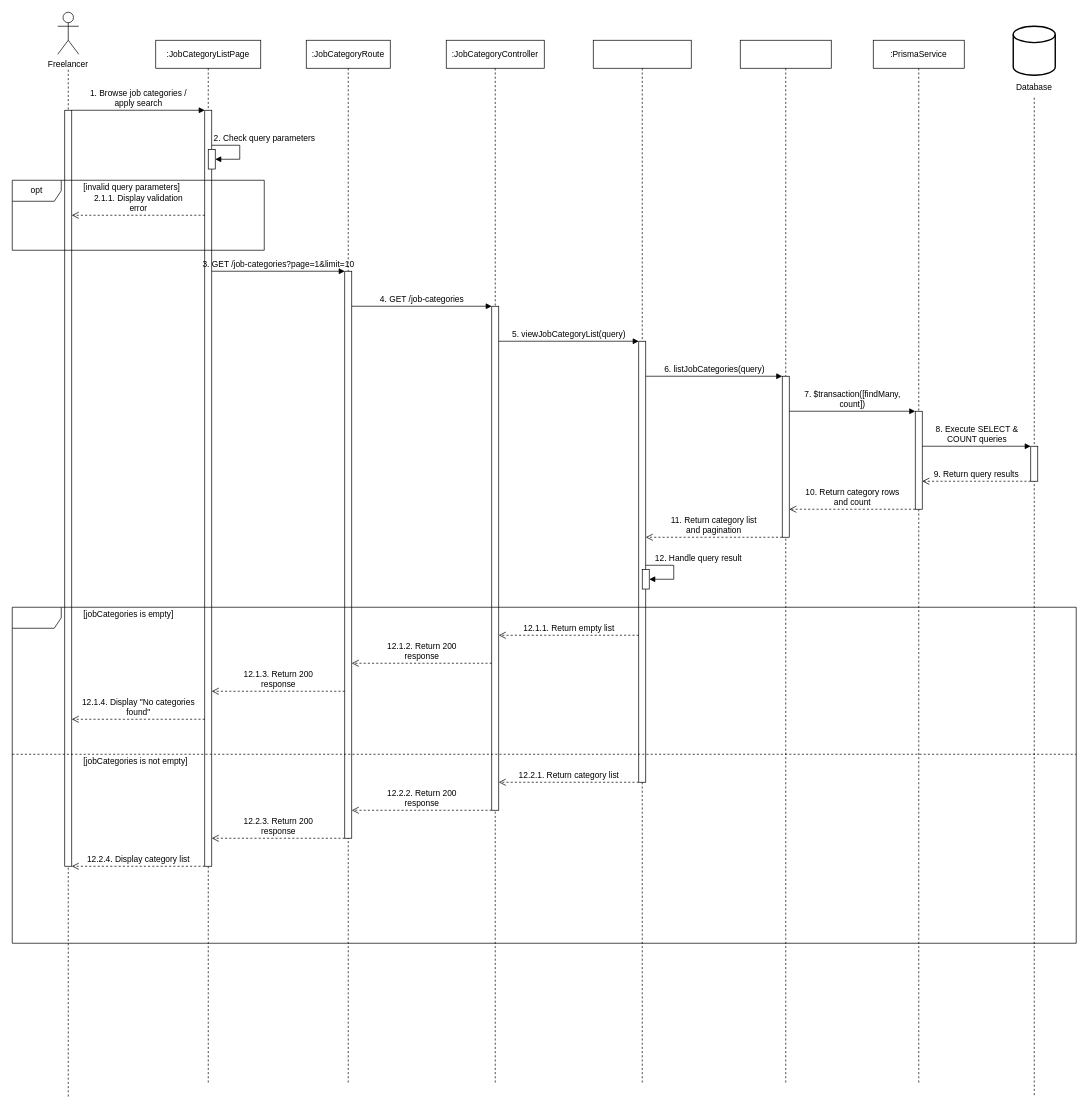
This 1089x1110 diagram has some shape labels left out. The shapes that lost their labels are listed below. From the top down, each one's centre as x and y in pixels, then its label:
At [642,561]: ":JobCategoryService".
At [785,561]: ":JobCategoryRepo".
At [544,775]: "alt".
